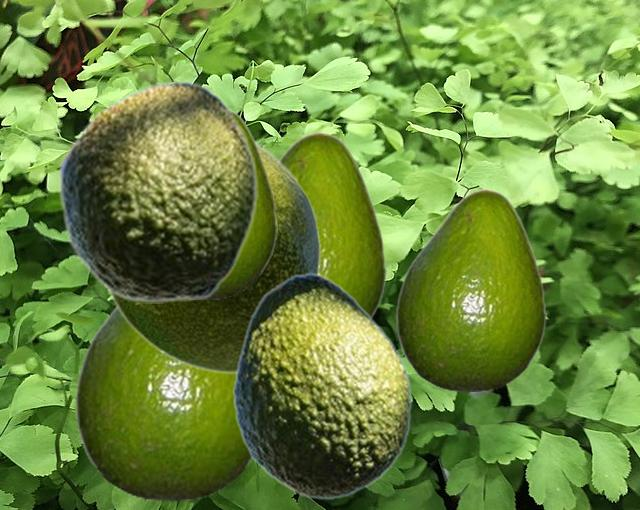avocado: (108, 139, 320, 374), (57, 80, 257, 302), (231, 272, 411, 499), (74, 305, 254, 499), (395, 188, 545, 390), (278, 131, 385, 319), (211, 108, 276, 298)
